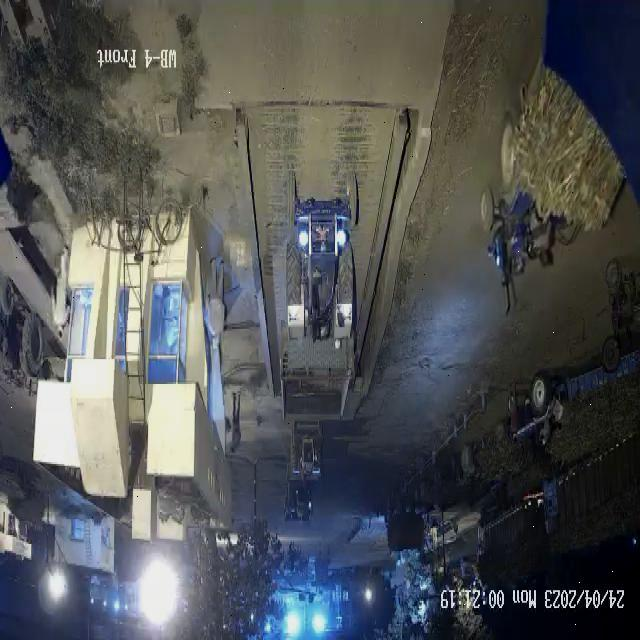Tratores - v5 YOLO V8L 2024-11-13: (467, 106, 578, 310), (280, 164, 355, 348), (508, 378, 564, 460), (288, 418, 318, 490)
